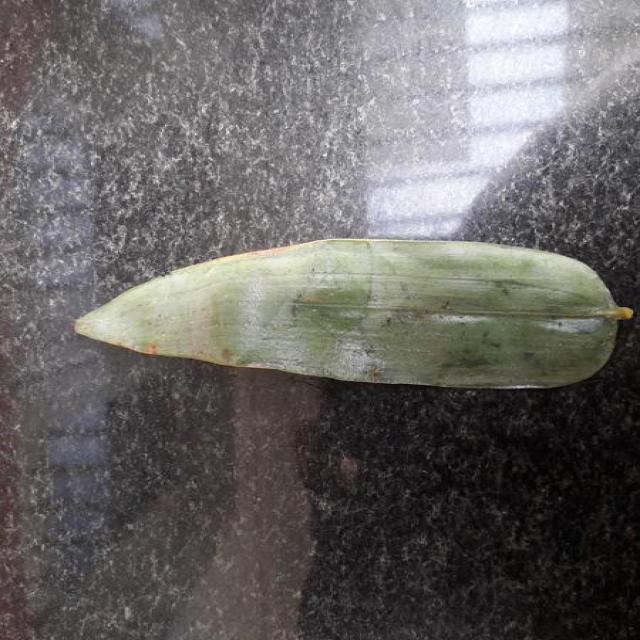defectedBamboo: (75, 240, 632, 388)
